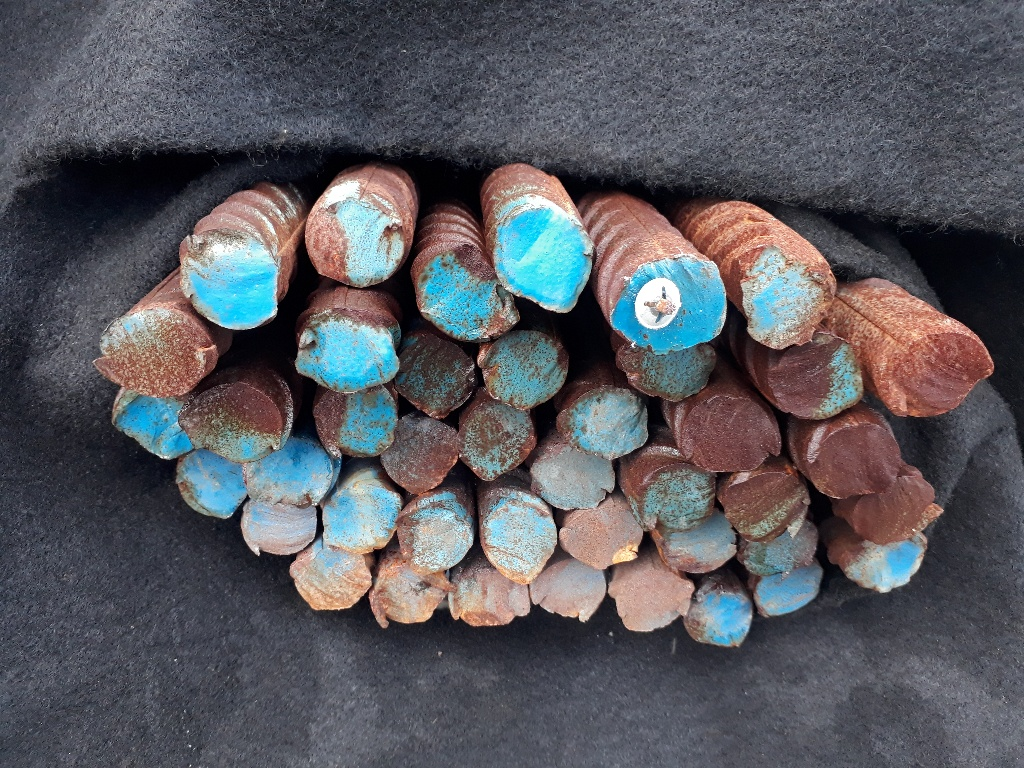dipstick: (495, 210, 595, 313), (613, 259, 726, 349), (181, 230, 279, 330), (306, 196, 405, 287), (895, 329, 995, 419), (103, 310, 206, 395), (742, 250, 825, 347), (420, 259, 517, 340), (679, 398, 782, 470), (296, 321, 399, 392), (772, 340, 864, 418), (181, 385, 279, 458), (481, 330, 571, 407), (809, 425, 900, 497), (851, 473, 942, 543), (396, 336, 473, 417), (725, 472, 809, 541), (112, 391, 193, 460), (564, 386, 645, 455), (246, 441, 331, 504), (481, 507, 554, 579), (464, 407, 536, 479), (393, 416, 462, 491), (315, 391, 394, 455), (616, 345, 712, 397), (612, 568, 690, 632), (399, 503, 473, 570), (290, 550, 368, 611), (559, 510, 640, 566), (535, 451, 618, 505), (321, 493, 399, 550), (640, 466, 712, 526), (175, 454, 241, 519), (451, 572, 528, 626), (532, 565, 606, 621), (853, 539, 930, 592), (376, 565, 444, 625), (240, 505, 316, 557), (688, 591, 754, 648), (660, 528, 738, 573), (753, 576, 821, 616), (745, 541, 818, 576)
